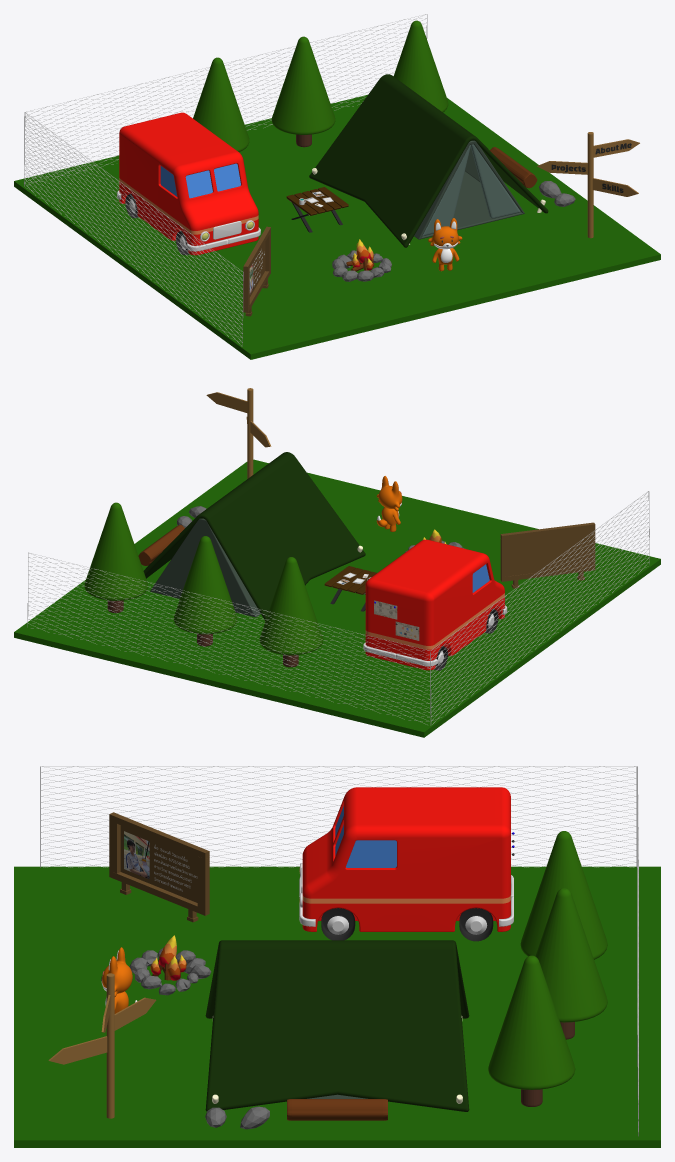
File: 3Dportfolio13.glb
3 renders of one model, top to bottom at view 1: azimuth 30°, elevation 25°; view 2: azimuth 150°, elevation 25°; view 3: azimuth 270°, elevation 25°, orthographic. The views are drawn at different scales.
Parts seen in each view (by area): view 1: Plane, Cube.001, Circle, Plane.001, Plane.002, Cylinder.006, Cylinder.008, Cube, Cylinder.004, Plane.006, Cube.003, Cube.002 (+5 smaller); view 2: Plane, Cube.001, Circle, Plane.002, Plane.001, Cube.003, Cylinder.008, Cylinder.006, Cylinder.004, Cube, Cube.002, skill (+4 smaller); view 3: Plane, Cube.001, Circle, Plane.001, Cylinder.004, Cube.003, Cylinder.006, Cylinder.008, Cylinder.002, Cylinder, portfolio_photo, Circle.002 (+6 smaller).
Boxes of the visible parts, bbox=[...] form: Plane: bbox=[14, 94, 660, 359]; Cube.001: bbox=[309, 74, 548, 247]; Circle: bbox=[119, 112, 258, 255]; Plane.001: bbox=[24, 112, 243, 346]; Plane.002: bbox=[24, 14, 427, 186]; Cylinder.006: bbox=[271, 36, 335, 134]; Cylinder.008: bbox=[193, 57, 249, 151]; Cube: bbox=[414, 140, 524, 239]; Cylinder.004: bbox=[393, 20, 448, 112]; Plane.006: bbox=[422, 144, 520, 236]; Cube.003: bbox=[243, 226, 270, 316]; Cube.002: bbox=[286, 187, 348, 215]; Plane: bbox=[14, 459, 660, 737]; Cube.001: bbox=[143, 452, 365, 620]; Circle: bbox=[365, 539, 504, 670]; Plane.002: bbox=[27, 552, 430, 725]; Plane.001: bbox=[430, 491, 649, 725]; Cube.003: bbox=[500, 522, 595, 588]; Cylinder.008: bbox=[259, 557, 323, 655]; Cylinder.006: bbox=[173, 536, 237, 634]; Cylinder.004: bbox=[84, 502, 147, 600]; Cube: bbox=[150, 518, 260, 617]; Cube.002: bbox=[324, 566, 376, 594]; skill: bbox=[374, 600, 419, 640]; Plane: bbox=[14, 866, 660, 1147]; Cube.001: bbox=[205, 940, 469, 1111]; Circle: bbox=[302, 787, 510, 931]; Plane.001: bbox=[40, 766, 637, 867]; Cylinder.004: bbox=[488, 955, 575, 1089]; Cube.003: bbox=[109, 812, 209, 922]; Cylinder.006: bbox=[535, 888, 607, 1022]; Cylinder.008: bbox=[520, 831, 607, 959]; Cylinder.002: bbox=[287, 1099, 387, 1120]; Cylinder: bbox=[106, 973, 114, 1118]; portfolio_photo: bbox=[124, 831, 149, 879]; Circle.002: bbox=[459, 908, 493, 941].
Bounding box in the file's own units: 10.28 × 2.64 × 10.
Materials: 44 (7 with a texture image).
